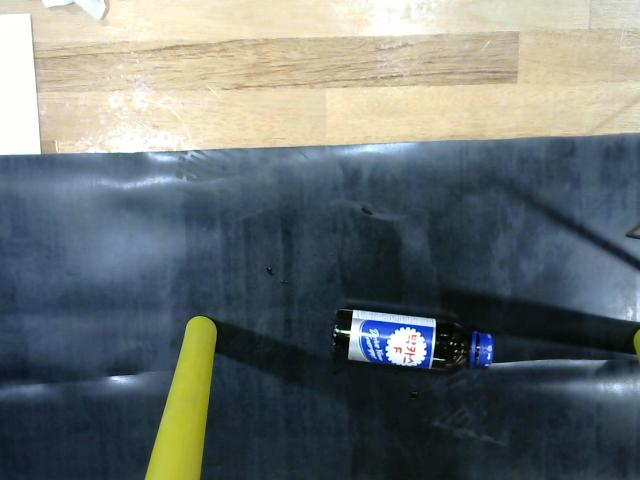glass: (329, 311, 498, 378)
